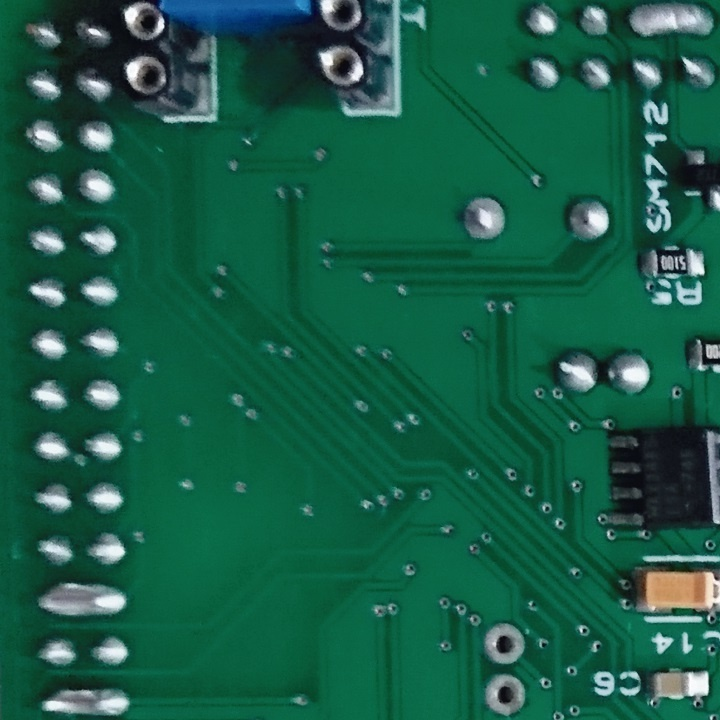F: (480, 670, 530, 717), (460, 195, 507, 243), (481, 622, 528, 666)
P: (34, 578, 129, 625), (626, 3, 720, 43), (38, 680, 136, 718)
